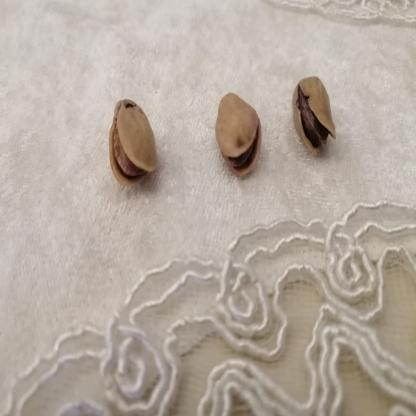pistachio: (101, 91, 167, 188), (218, 88, 262, 176), (290, 72, 337, 153)
